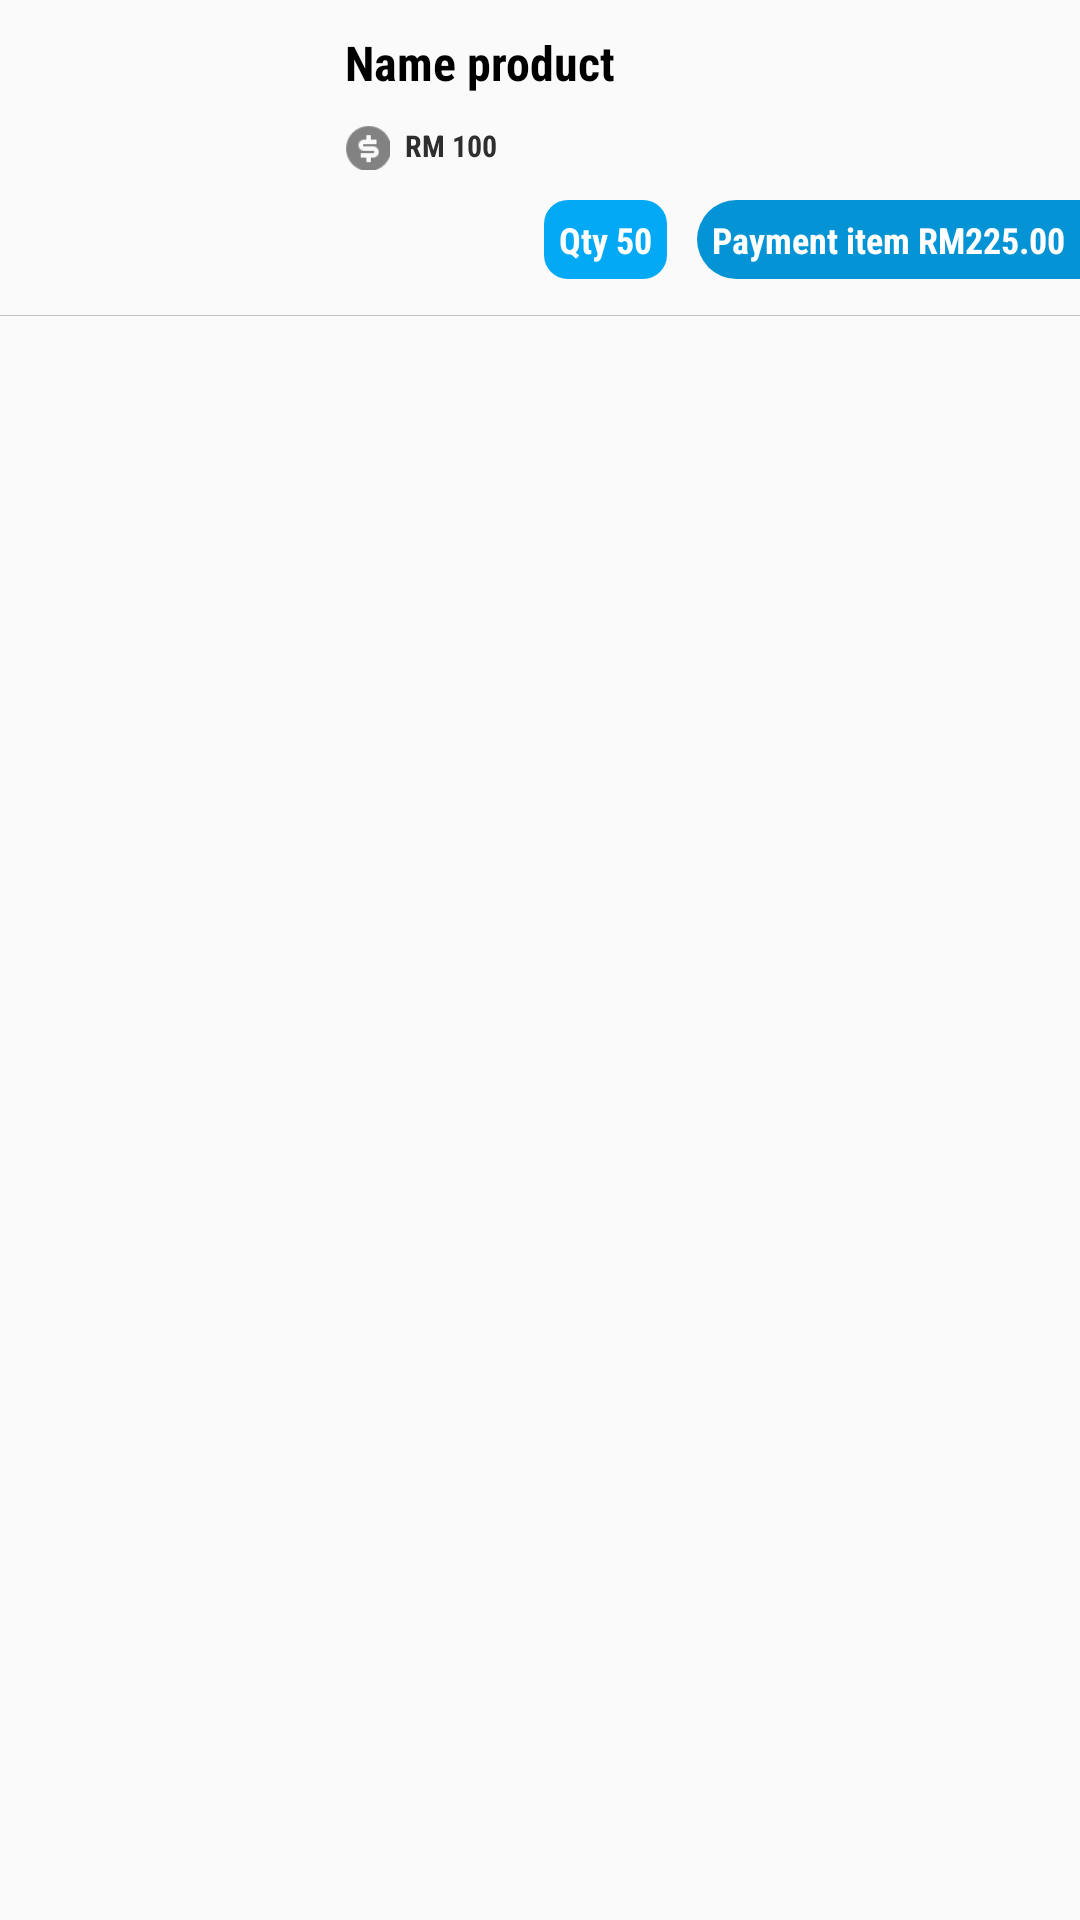

Screen size 1080x1920. Icon name, then its box in pixels as (x1, y1, x2, y2):
currency: (346, 126, 390, 170)
